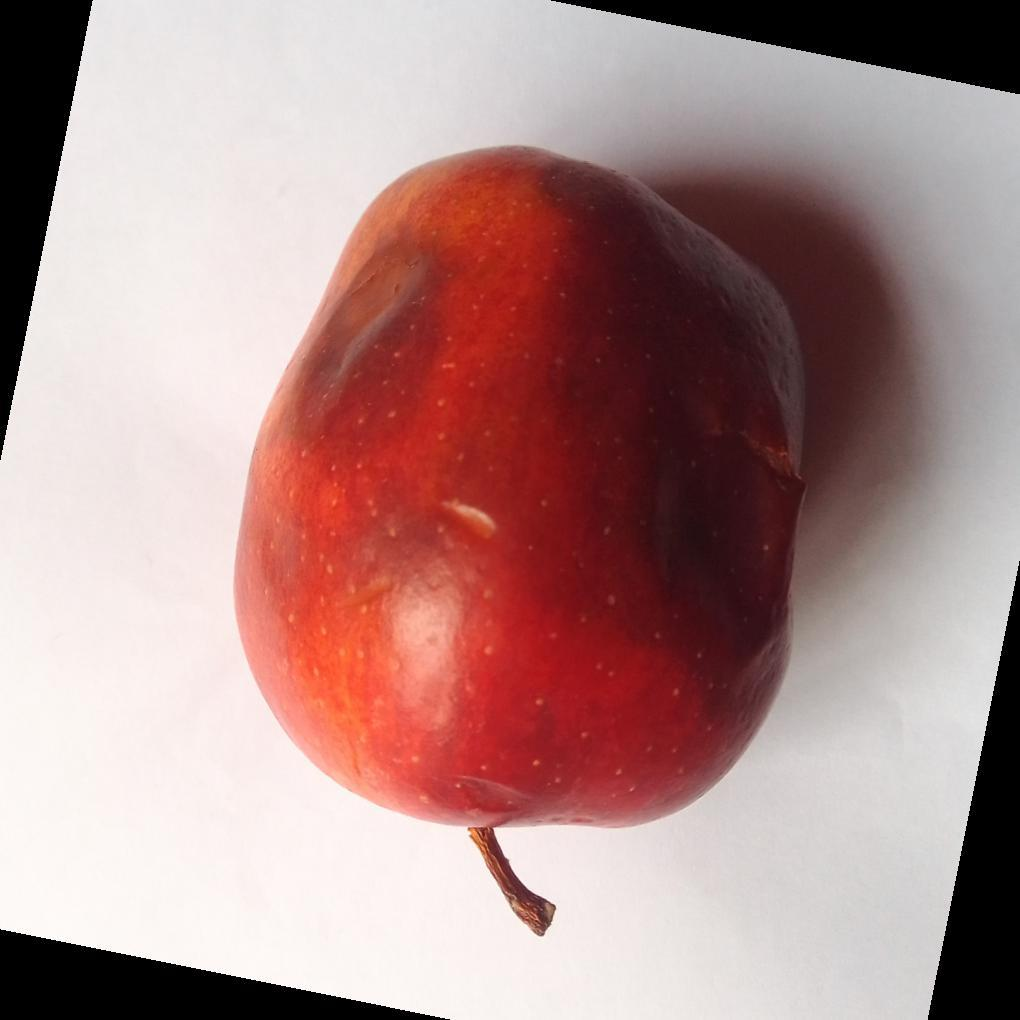FreshOrange: (231, 146, 807, 934)
